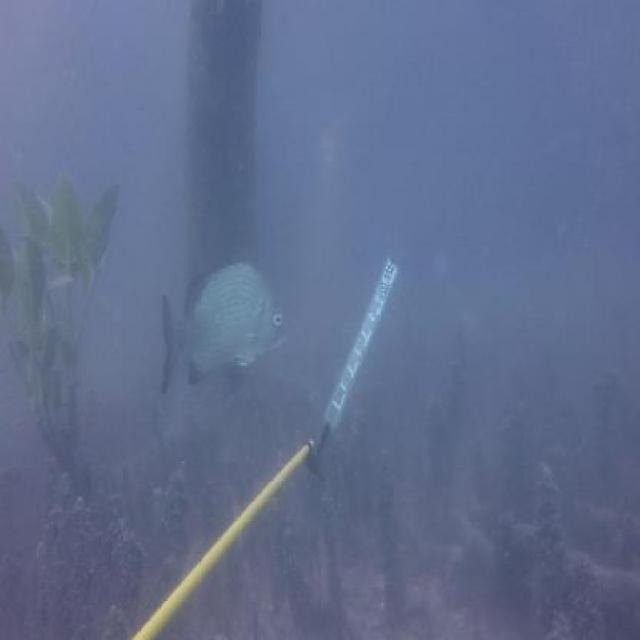acanthopagrus_palmaris: (156, 258, 299, 404)
